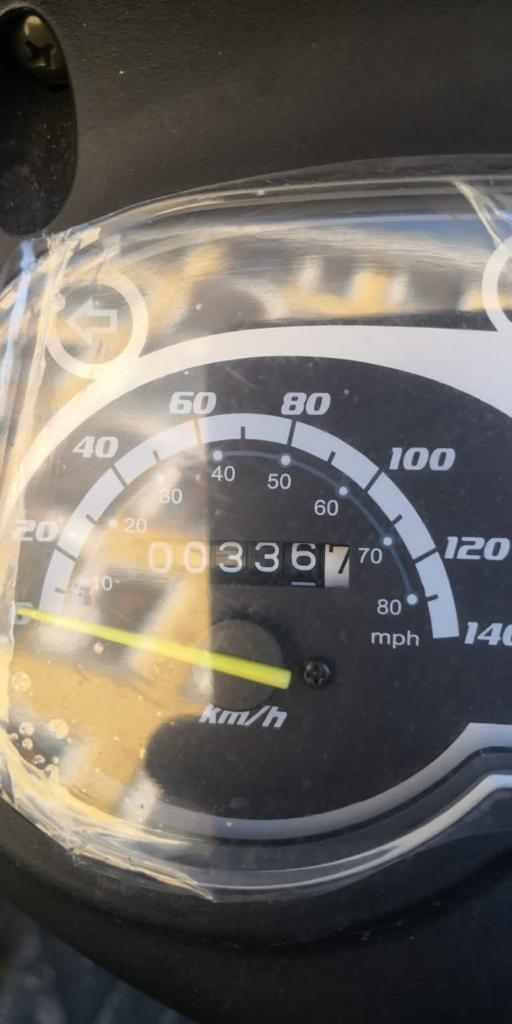0: (145, 539, 173, 576), (181, 539, 209, 575)
3: (216, 538, 245, 574), (252, 540, 281, 574)
6: (288, 538, 318, 572)
7: (325, 541, 351, 576)
odometer: (116, 535, 352, 592)
